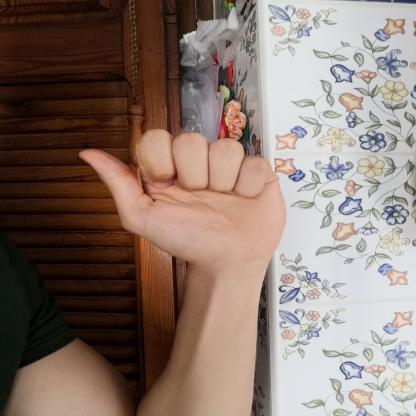DAD: (64, 118, 298, 279)
